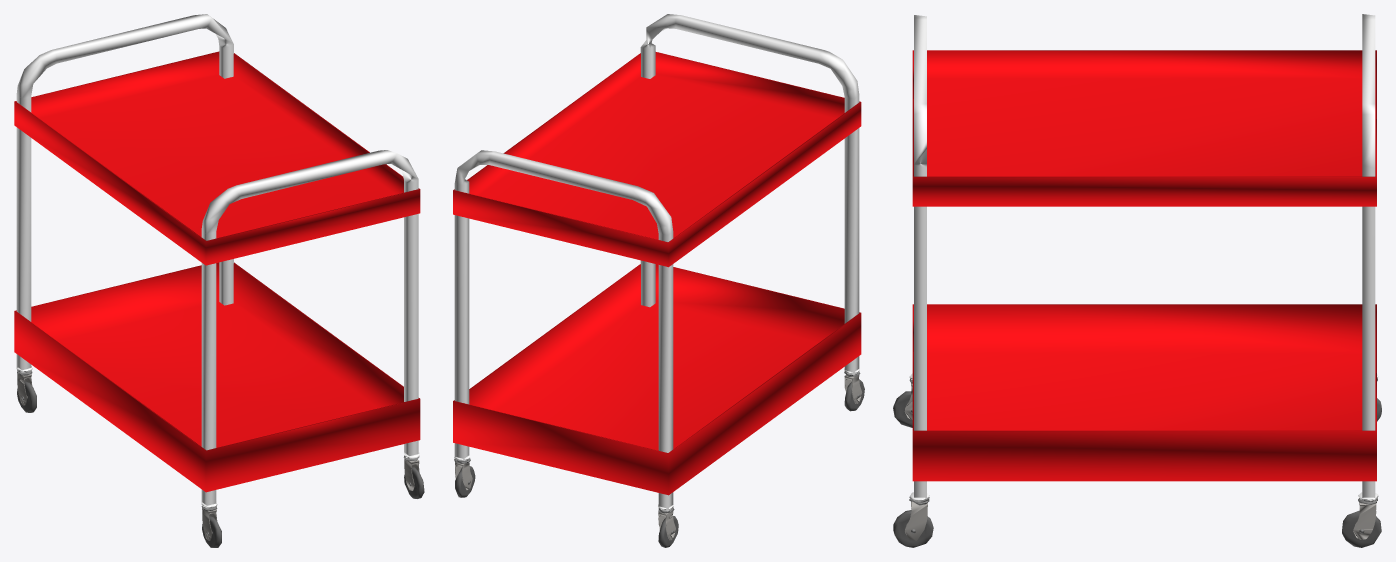
The model's file is ShopCart.FBX.
3 views of the same model, side by side, from view 1: azimuth 30°, elevation 25°; view 2: azimuth 150°, elevation 25°; view 3: azimuth 270°, elevation 25° (orthographic). The views are drawn at different scales.
Visible parts, largest first — view 1: ShopRollAround_1; view 2: ShopRollAround_1; view 3: ShopRollAround_1.
Boxes of the visible parts, x1,y1,x2,y2 form: ShopRollAround_1: (14,14,424,547); ShopRollAround_1: (453,14,864,547); ShopRollAround_1: (893,14,1381,547).
Bounding box in the file's own units: 56.6 × 87.74 × 91.38.
